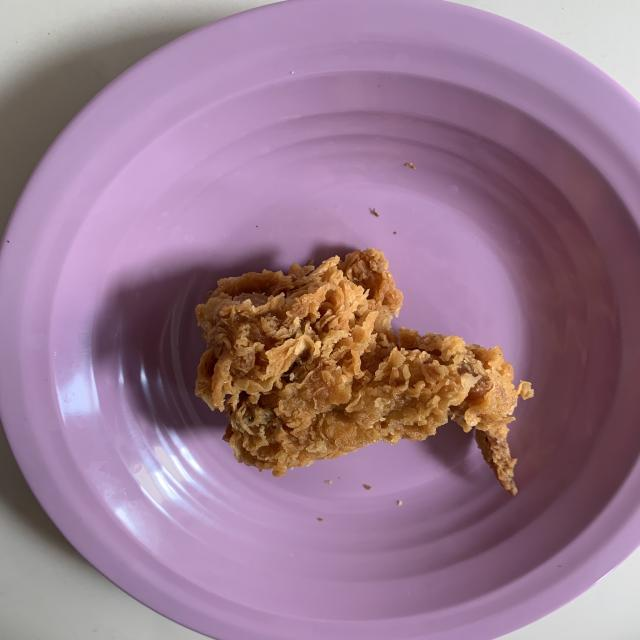Frango: (197, 248, 524, 494)
